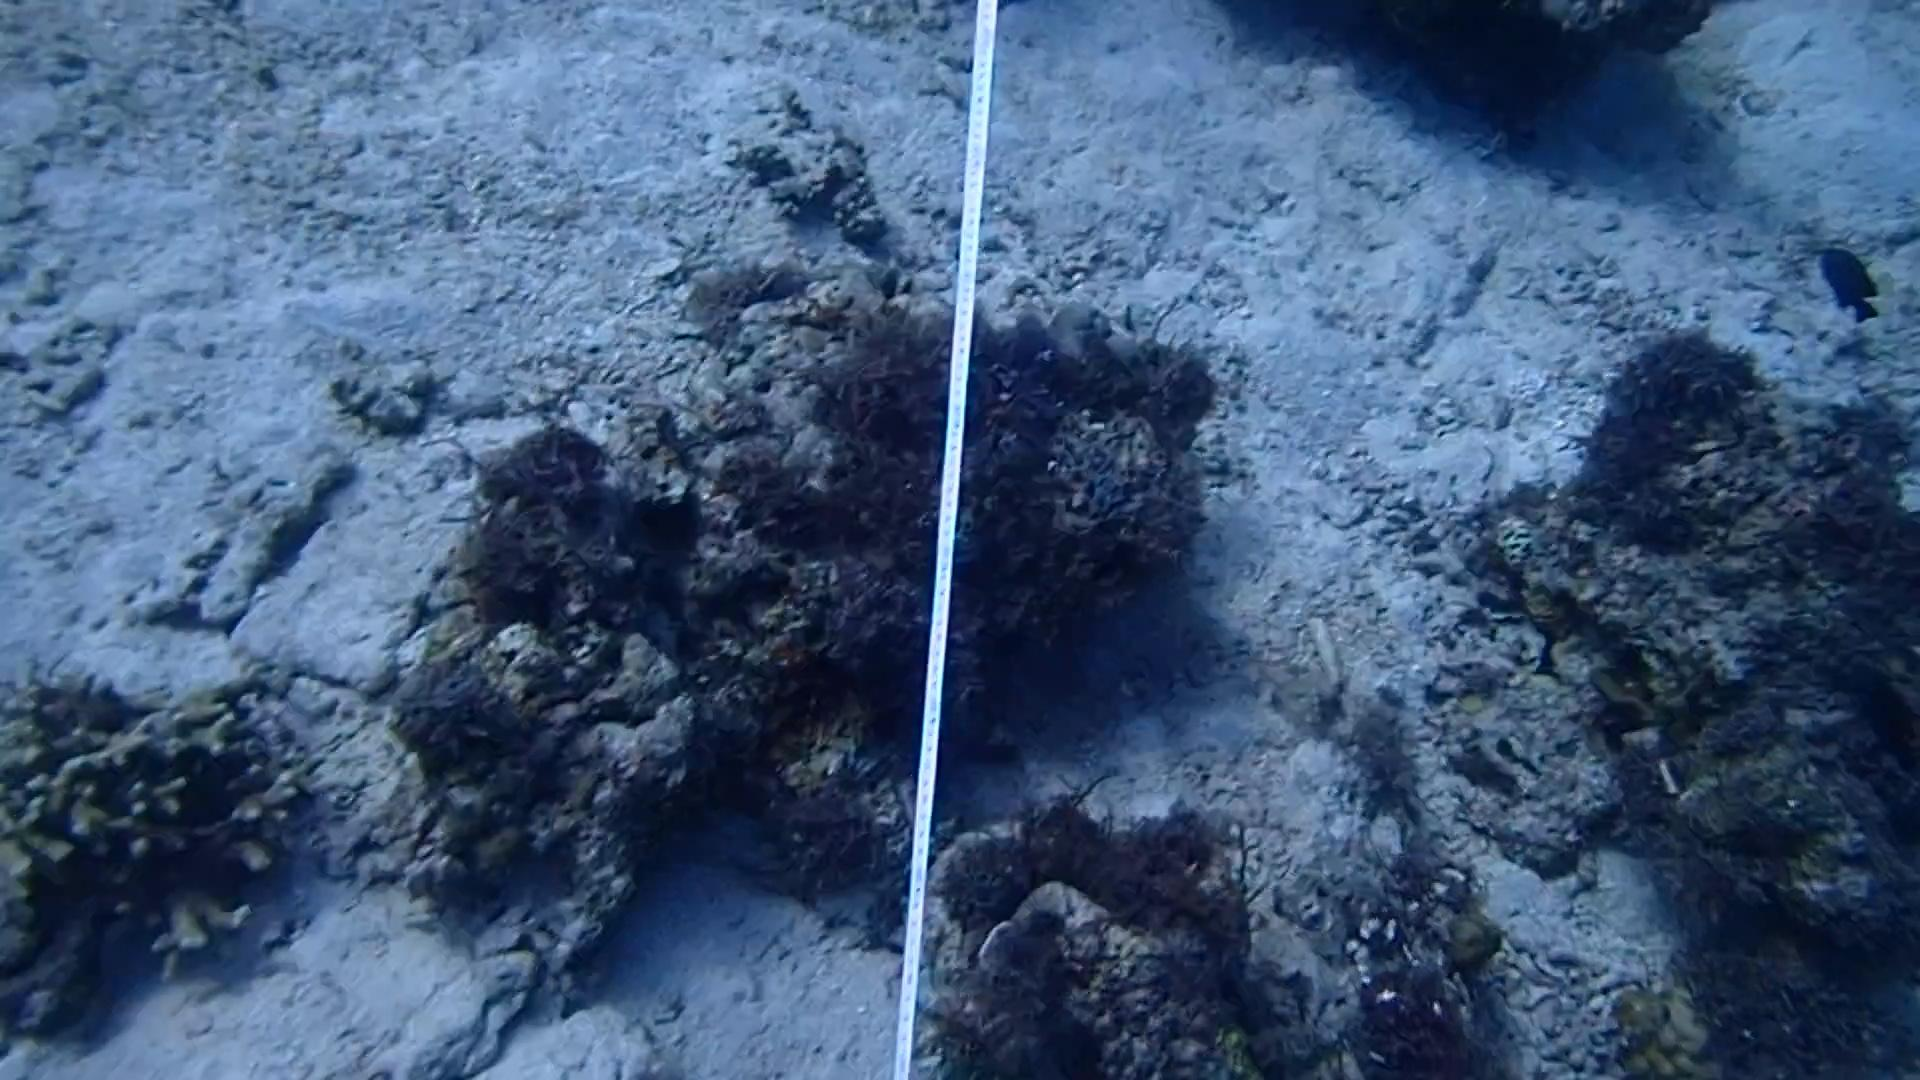Dark Fish: (1849, 666, 1920, 783), (1811, 237, 1887, 335)
